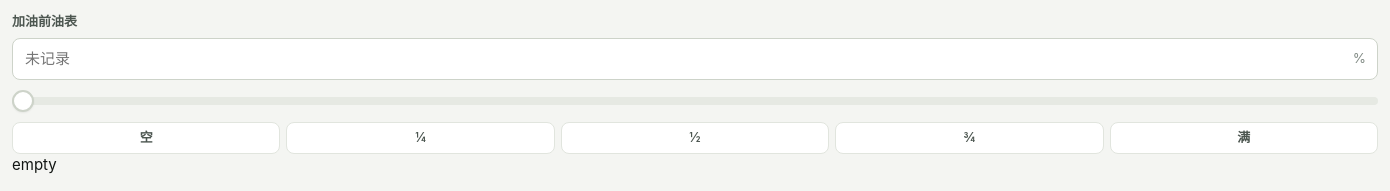
GaugeField › accepts a typed level
The image size is (1390, 191).
Type "37" into the number field labelled "加油前油表" at (695, 58), box [12, 38, 1378, 80]
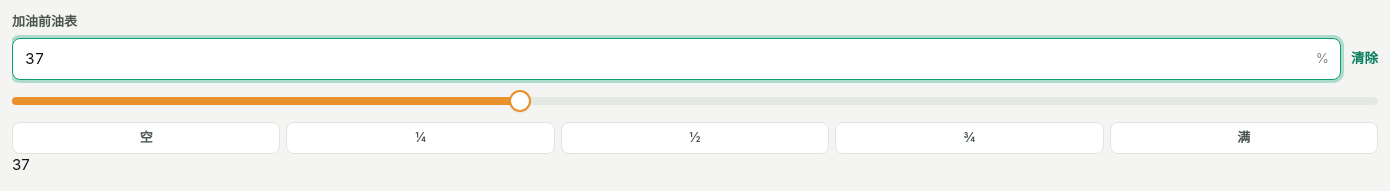
Expected: the text with test id "value" reads "37", [12, 154, 30, 174]
Expected: the slider named "拖动调整刻度" holds "37", [12, 96, 1378, 104]
